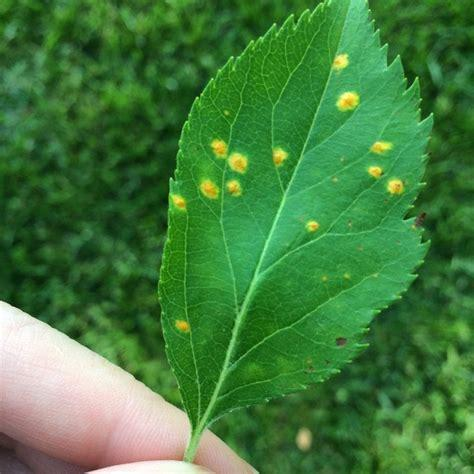black-spot: (331, 78, 411, 212), (197, 119, 289, 209)
